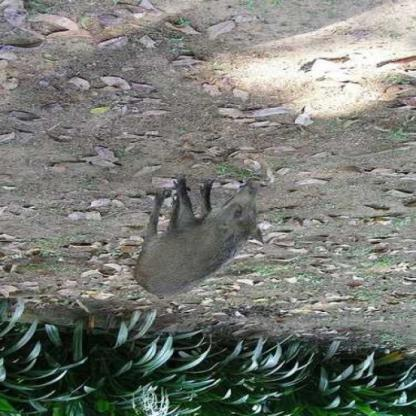boar: (132, 185, 281, 312)
